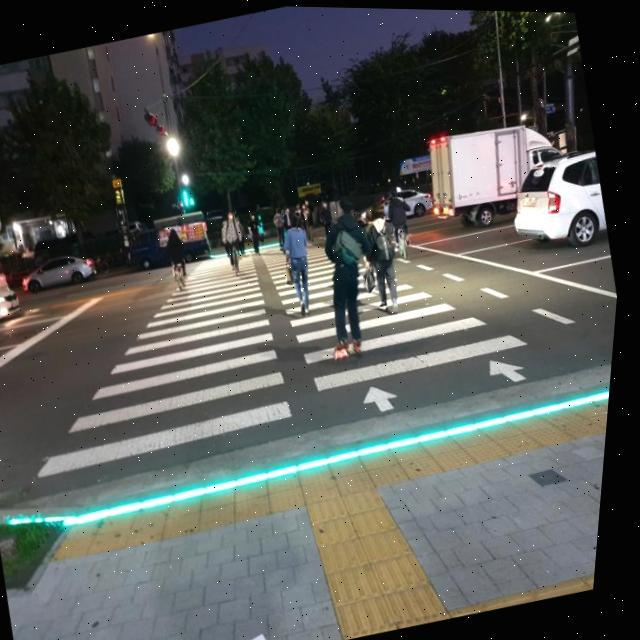green_light: (191, 195, 200, 206)
